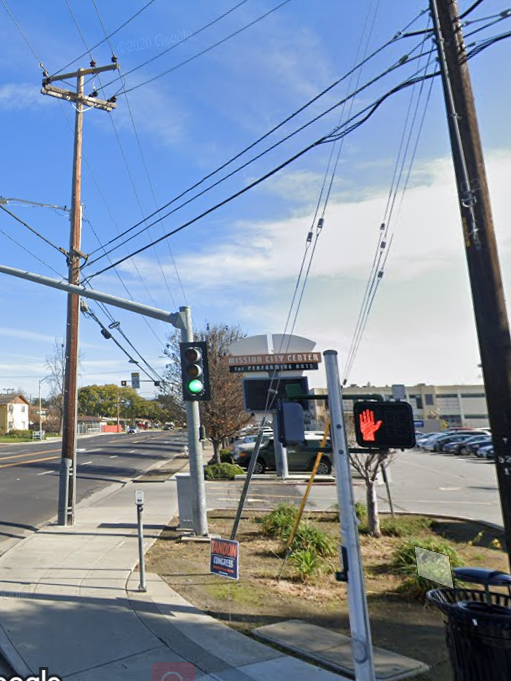green_light: (181, 345, 208, 400)
